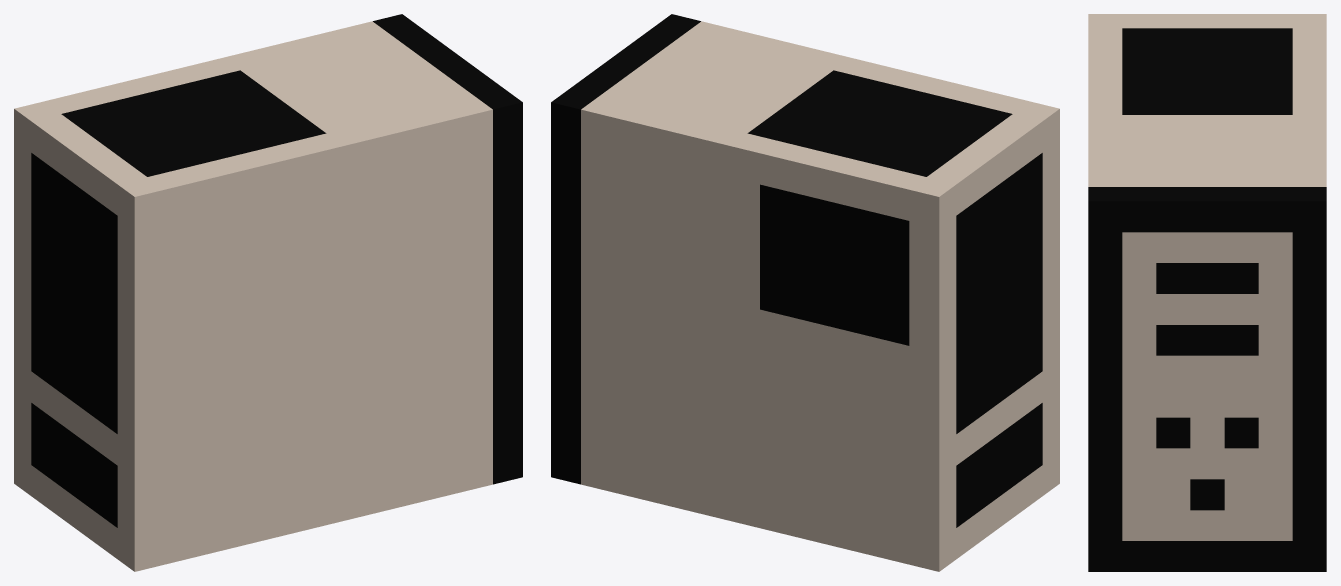
Rendered from System unit2.obj.
3 views of the same model, side by side, from view 1: azimuth 30°, elevation 25°; view 2: azimuth 150°, elevation 25°; view 3: azimuth 270°, elevation 25° (orthographic).
Size of the model in its own units: 1.3 by 1.2 by 0.7.
Materials: 1 (1 with a texture image).
